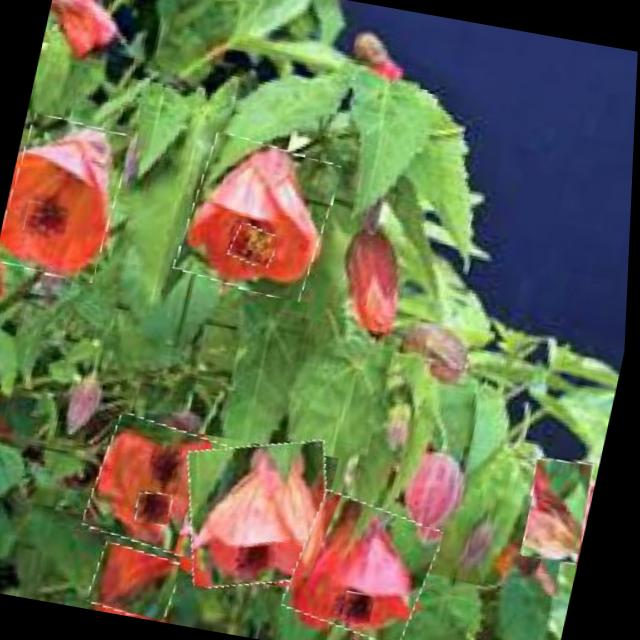Flower: (173, 426, 354, 601), (175, 132, 343, 301), (287, 491, 448, 640), (0, 113, 133, 283), (88, 414, 239, 558), (521, 456, 602, 566), (91, 543, 187, 622), (229, 223, 281, 267), (23, 200, 74, 238), (137, 490, 179, 528), (345, 590, 382, 624)
